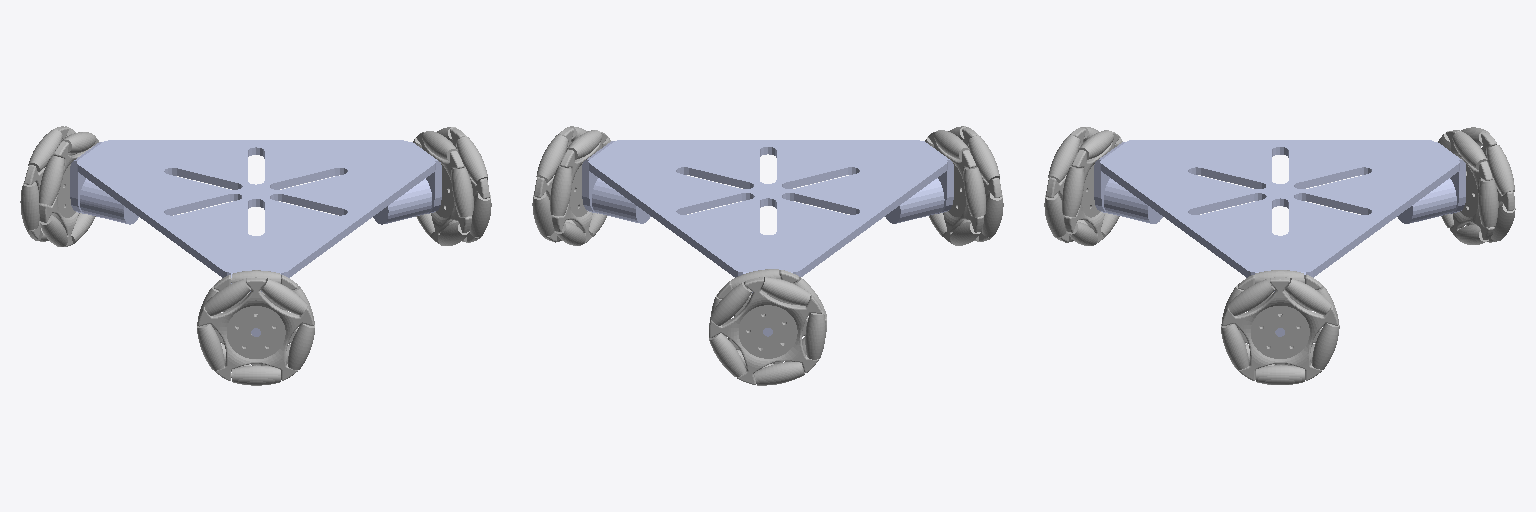
The robot description file, URDF, robot "my_robot":
<?xml version="1.0"?>
<!-- This URDF was automatically created by SolidWorks to URDF Exporter! Originally created by [author] ([email redacted]) 
     Commit Version: 1.6.0-4-g7f85cfe  Build Version: 1.6.7995.38578
     For more information, please see http://wiki.ros.org/sw_urdf_exporter -->

<robot xmlns:xacro="http://www.ros.org/wiki/xacro" name="my_robot">

<!-- <robot name="my_robot"> -->
  <!-- Link definitions -->
  <link name="base_link">
    <inertial>
      <origin xyz="-2.04568653683346E-10 1.00266902253177E-06 -0.0106257680503744" rpy="0 0 0" />
      <mass value="0.173900838674704" />
      <inertia ixx="0.000387560415194937" ixy="4.05918969904927E-11" ixz="5.8826494221032E-14" iyy="0.000387560418860029" iyz="-2.00380960291015E-12" izz="0.000761130810400847" />
    </inertial>
    <visual>
      <origin xyz="0 0 0" rpy="0 0 0" />
      <geometry>
        <mesh filename="package://my_robot/meshes/base_link.STL" />
      </geometry>
      <material name="">
        <color rgba="0.792156862745098 0.819607843137255 0.933333333333333 1" />
      </material>
    </visual>
    <collision>
      <origin xyz="0 0 0" rpy="0 0 0" />
      <geometry>
        <mesh filename="package://my_robot/meshes/base_link.STL" />
      </geometry>
    </collision>
  </link>

  <gazebo reference="base_link">
    <mu1>200</mu1>
    <mu2>200</mu2>
    <kp>1000000</kp>
    <kd>1</kd>
    <material>Gazebo/Green</material>
  </gazebo>

  <link name="one_wheel">
    <inertial>
      <origin xyz="2.67224528581189E-05 -3.27127233764046E-05 -0.00649997715494348" rpy="0 0 0" />
      <mass value="0.0419160907345283" />
      <inertia ixx="5.34583469744485E-06" ixy="1.57646178621866E-11" ixz="-1.65825161441672E-09" iyy="5.34572651376296E-06" iyz="-1.22527635561011E-10" izz="1.02411300789548E-05" />
    </inertial>
    <visual>
      <origin xyz="0 0 0" rpy="0 0 0" />
      <geometry>
        <mesh filename="package://my_robot/meshes/one_wheel.STL" />
      </geometry>
      <material name="">
        <color rgba="0.752941176470588 0.752941176470588 0.752941176470588 1" />
      </material>
    </visual>
    <collision>
      <origin xyz="0 0 0" rpy="0 0 0" />
      <geometry>
        <mesh filename="package://my_robot/meshes/one_wheel.STL" />
      </geometry>
    </collision>
  </link>

  <joint name="onewheel" type="continuous">
    <origin xyz="0.13836 2.0681E-05 -0.0275" rpy="-1.5708 0 -1.5708" />
    <parent link="base_link" />
    <child link="one_wheel" />
    <axis xyz="-0.00025599 0 1" />
    <limit effort="10" velocity="10" />
    <dynamics damping="0.1" friction="0.1" />
  </joint>

  <gazebo reference="onewheel">
    <mu1>200</mu1>
    <mu2>200</mu2>
    <kp>1000000</kp>
    <kd>1</kd>
    <material>Gazebo/Gray</material>
  </gazebo>

  <link name="two_wheel">
    <inertial>
      <origin xyz="3.18910464934541E-05 -2.5818971928826E-05 -0.00649999928817896" rpy="0 0 0" />
      <mass value="0.0419159058672542" />
      <inertia ixx="5.34581381106088E-06" ixy="2.73479937978185E-11" ixz="-3.5178891556199E-10" iyy="5.34579942141073E-06" iyz="-2.12620962617672E-10" izz="1.02411833372762E-05" />
    </inertial>
    <visual>
      <origin xyz="0 0 0" rpy="0 0 0" />
      <geometry>
        <mesh filename="package://my_robot/meshes/two_wheel.STL" />
      </geometry>
      <material name="">
        <color rgba="0.752941176470588 0.752941176470588 0.752941176470588 1" />
      </material>
    </visual>
    <collision>
      <origin xyz="0 0 0" rpy="0 0 0" />
      <geometry>
        <mesh filename="package://my_robot/meshes/two_wheel.STL" />
      </geometry>
    </collision>
  </link>

  <joint name="twowheel" type="continuous">
    <origin xyz="-0.069178 0.11982 -0.0275" rpy="-1.5708 0 0.5236" />
    <parent link="base_link" />
    <child link="two_wheel" />
    <axis xyz="0 0 1" />
    <limit lower="0" upper="0" effort="10" velocity="10" />
    <dynamics damping="0.1" friction="0.1" />
  </joint>

  <gazebo reference="twowheel">
    <mu1>200</mu1>
    <mu2>200</mu2>
    <kp>1000000</kp>
    <kd>1</kd>
    <material>Gazebo/Gray</material>
  </gazebo>

  <link name="three_wheel">
    <inertial>
      <origin xyz="-1.02420265318814E-06 4.10783351899452E-05 -0.00649997784284484" rpy="0 0 0" />
      <mass value="0.0419163771415697" />
      <inertia ixx="5.34578372169705E-06" ixy="-1.32019930380264E-11" ixz="3.83543971712795E-10" iyy="5.34567742833597E-06" iyz="-1.35573581020683E-10" izz="1.02410264515246E-05" />
    </inertial>
    <visual>
      <origin xyz="0 0 0" rpy="0 0 0" />
      <geometry>
        <mesh filename="package://my_robot/meshes/three_wheel.STL" />
      </geometry>
      <material name="">
        <color rgba="0.752941176470588 0.752941176470588 0.752941176470588 1" />
      </material>
    </visual>
    <collision>
      <origin xyz="0 0 0" rpy="0 0 0" />
      <geometry>
        <mesh filename="package://my_robot/meshes/three_wheel.STL" />
      </geometry>
    </collision>
  </link>

  <joint name="threewheel" type="continuous">
    <origin xyz="-0.069178 -0.11982 -0.0275" rpy="-1.5708 0 2.618" />
    <parent link="base_link" />
    <child link="three_wheel" />
    <axis xyz="0 0 1" />
    <limit effort="10" velocity="10" />
    <dynamics damping="0.1" friction="0.1" />
  </joint>

  <gazebo reference="threewheel">
    <mu1>200</mu1>
    <mu2>200</mu2>
    <kp>1000000</kp>
    <kd>1</kd>
    <material>Gazebo/Gray</material>
  </gazebo>

  <!-- Plugins -->
  <gazebo>
    <plugin name="skid_steer_drive_controller" filename="libgazebo_ros_skid_steer_drive.so">
      <updateRate>100.0</updateRate>
      <robotNamespace>/</robotNamespace>
      <leftFrontJoint>one_wheel</leftFrontJoint>
      <rightFrontJoint>two_wheel</rightFrontJoint>
      <leftRearJoint>back_left_wheel_joint</leftRearJoint>
      <rightRearJoint>back_right_wheel_joint</rightRearJoint>
      <wheelSeparation>0.4</wheelSeparation>
      <wheelDiameter>0.215</wheelDiameter>
      <robotBaseFrame>base_link</robotBaseFrame>
      <torque>20</torque>
      <topicName>cmd_vel</topicName>
      <broadcastTF>false</broadcastTF>
    </plugin>
</gazebo>

  <gazebo>
    <plugin name="gazebo_ros_joint_state_publisher" filename="libgazebo_ros_joint_state_publisher.so">
      <update_rate>100</update_rate>
      <joint_name>onewheel</joint_name>
      <joint_name>twowheel</joint_name>
      <joint_name>threewheel</joint_name>
    </plugin>
  </gazebo>
</robot>

--- Render facts (derived) ---
The picture shows the robot from 3 angles, left to right: view 1: azimuth 30°, elevation 25°; view 2: azimuth 150°, elevation 25°; view 3: azimuth 270°, elevation 25°; orthographic projection.
Model my_robot with 4 links and 3 joints (3 continuous), rooted at base_link, posed all joints at 0.
Links seen in each view (by area): view 1: base_link, three_wheel, one_wheel, two_wheel; view 2: base_link, two_wheel, three_wheel, one_wheel; view 3: base_link, one_wheel, three_wheel, two_wheel.
Link boxes in pixels (x1,y1,x2,y2): base_link: (70,140,441,336); three_wheel: (197,270,314,385); one_wheel: (413,127,491,245); two_wheel: (20,126,98,246); base_link: (582,140,953,336); two_wheel: (709,269,826,385); three_wheel: (925,126,1003,245); one_wheel: (532,126,610,245); base_link: (1094,140,1465,336); one_wheel: (1221,270,1339,384); three_wheel: (1044,127,1122,245); two_wheel: (1438,127,1515,244).
Size in the robot's own frame: 0.2438 by 0.2784 by 0.0707 metres.
Meshes: 4 distinct files referenced, 4 mesh visuals loaded (4 binary STL).